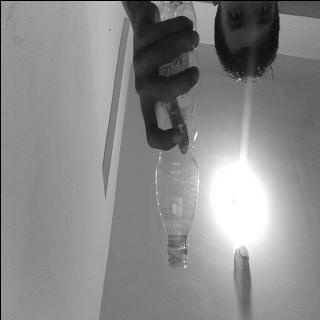plastic_bottles: (153, 0, 199, 270)
